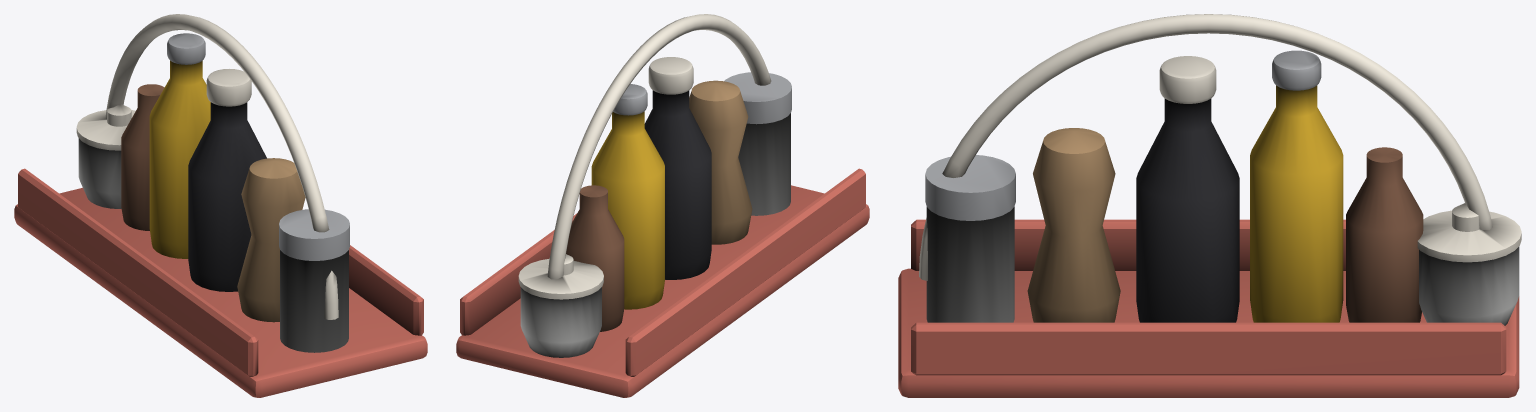
The model's file is kit_spice.glb.
The picture shows the model from 3 angles, left to right: view 1: azimuth 30°, elevation 25°; view 2: azimuth 150°, elevation 25°; view 3: azimuth 270°, elevation 25°; orthographic projection. The views are drawn at different scales.
Parts seen in each view (by area): view 1: PART; view 2: PART; view 3: PART.
Part boxes in pixels (x1,y1,x2,y2): PART: (14, 14, 427, 397); PART: (456, 14, 869, 397); PART: (898, 14, 1521, 397).
Bounding box in the file's own units: 0.1 × 0.142 × 0.241.
